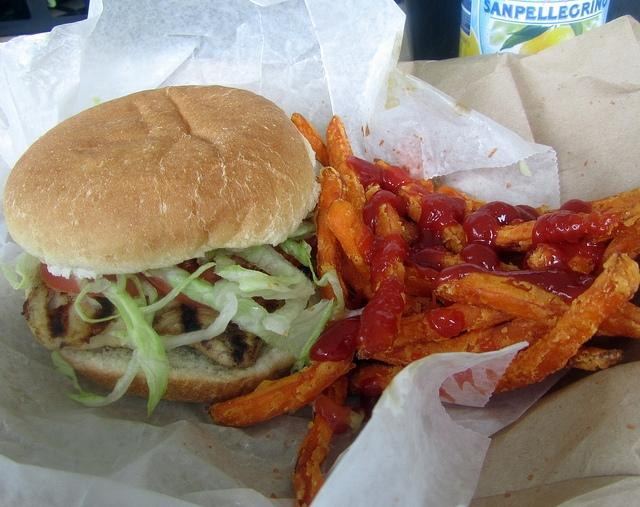lettuce: (146, 265, 330, 360), (102, 281, 168, 417), (278, 239, 364, 320), (213, 244, 316, 307), (159, 292, 238, 350), (212, 246, 306, 293), (68, 349, 140, 406), (138, 262, 216, 314), (50, 349, 97, 396), (262, 294, 312, 335), (0, 250, 41, 290), (116, 274, 147, 308), (287, 220, 316, 240)
